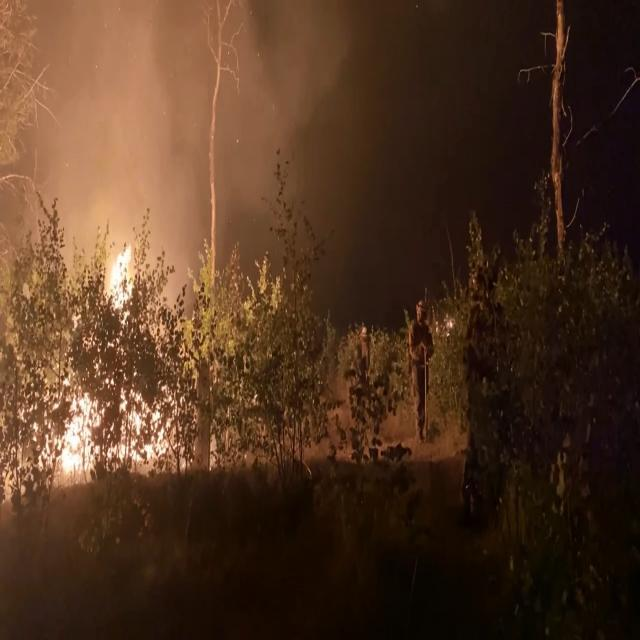Fire: (53, 248, 158, 470)
